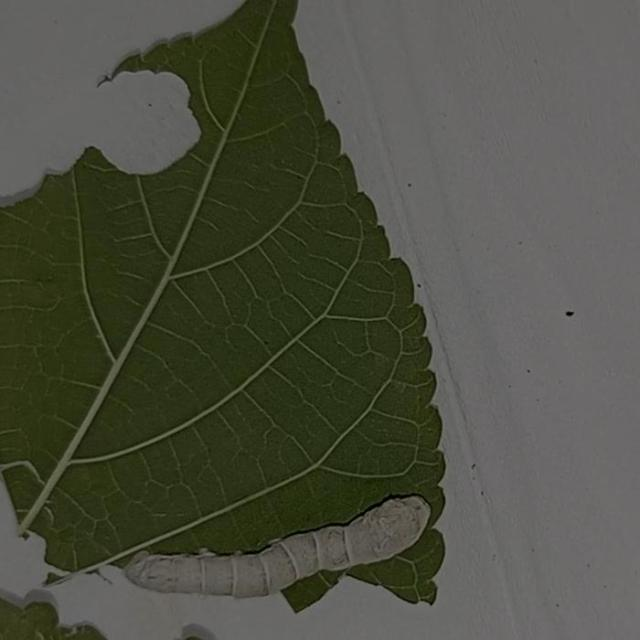Healthy: (112, 479, 447, 606)
